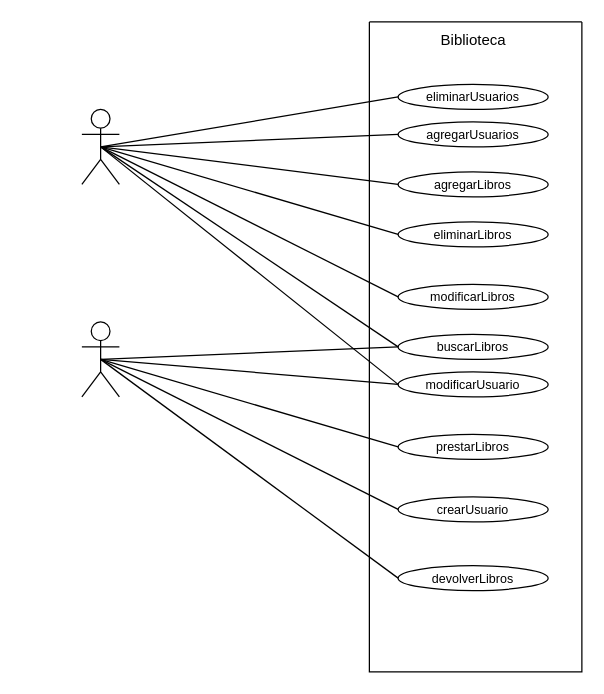
Image size: 604x694. Some labels were removed from this diagram. Here are the shapes that lost their labels. From the top down, the box of each, then its label:
(81, 108, 119, 184): AdministradorBiblioteca
(81, 321, 119, 397): UsuarioBiblioteca
